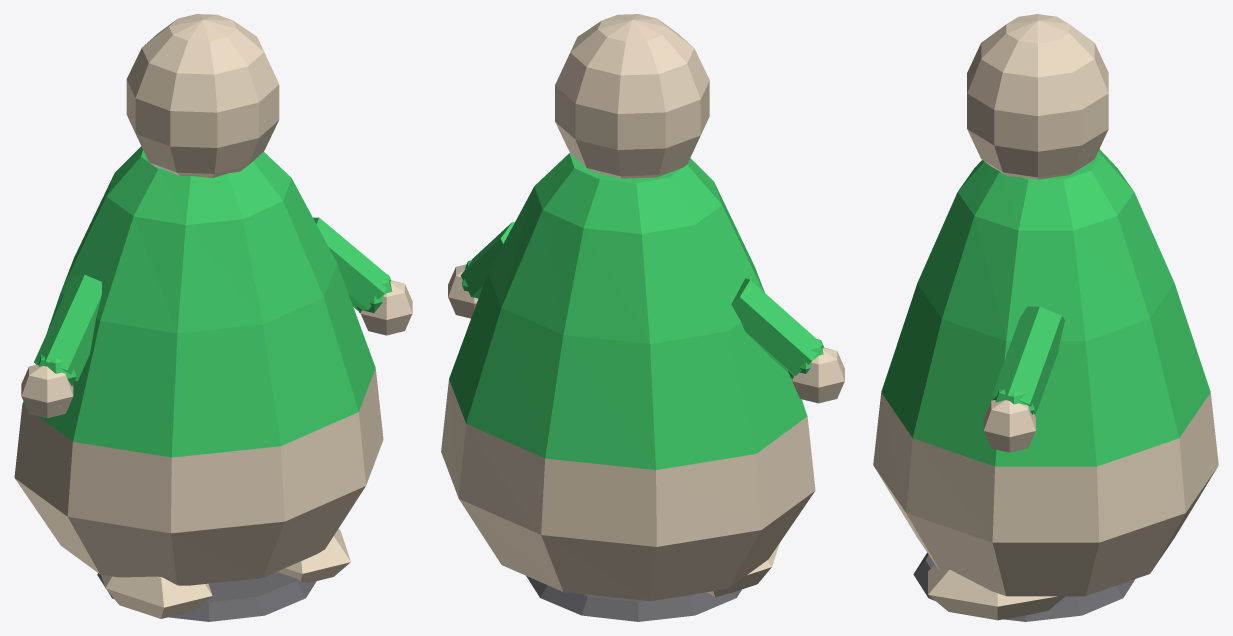
The model's file is gym_mannequin.glb.
3 renders of one model, left to right at view 1: azimuth 30°, elevation 25°; view 2: azimuth 150°, elevation 25°; view 3: azimuth 270°, elevation 25°, orthographic.
Parts seen in each view (by area): view 1: body_mannequin_tank, body_mannequin_plastic, head_mannequin_plastic, arms_mannequin_tank, legs_mannequin_plastic, stand_mannequin_stand, arms_mannequin_plastic; view 2: body_mannequin_tank, body_mannequin_plastic, head_mannequin_plastic, arms_mannequin_tank, stand_mannequin_stand, arms_mannequin_plastic, legs_mannequin_plastic; view 3: body_mannequin_tank, body_mannequin_plastic, head_mannequin_plastic, arms_mannequin_tank, legs_mannequin_plastic, arms_mannequin_plastic, stand_mannequin_stand.
Part boxes in pixels (box(x1,y1,x2,y2)): body_mannequin_tank: box(22, 146, 375, 457); body_mannequin_plastic: box(14, 368, 383, 585); head_mannequin_plastic: box(126, 14, 279, 178); arms_mannequin_tank: box(34, 217, 392, 386); legs_mannequin_plastic: box(101, 528, 350, 618); stand_mannequin_stand: box(97, 572, 316, 621); arms_mannequin_plastic: box(21, 280, 412, 418); body_mannequin_tank: box(449, 153, 807, 469); body_mannequin_plastic: box(441, 379, 815, 601); head_mannequin_plastic: box(555, 14, 709, 178); arms_mannequin_tank: box(461, 222, 824, 378); stand_mannequin_stand: box(526, 576, 741, 621); arms_mannequin_plastic: box(448, 264, 844, 403); legs_mannequin_plastic: box(707, 543, 779, 597); body_mannequin_tank: box(881, 149, 1210, 466); body_mannequin_plastic: box(873, 393, 1218, 596); head_mannequin_plastic: box(967, 14, 1108, 179); arms_mannequin_tank: box(992, 306, 1064, 414); legs_mannequin_plastic: box(928, 565, 1064, 620); arms_mannequin_plastic: box(983, 400, 1035, 452); stand_mannequin_stand: box(913, 552, 1135, 621).
Bounding box in the file's own units: 1.13 × 1.53 × 0.86.
